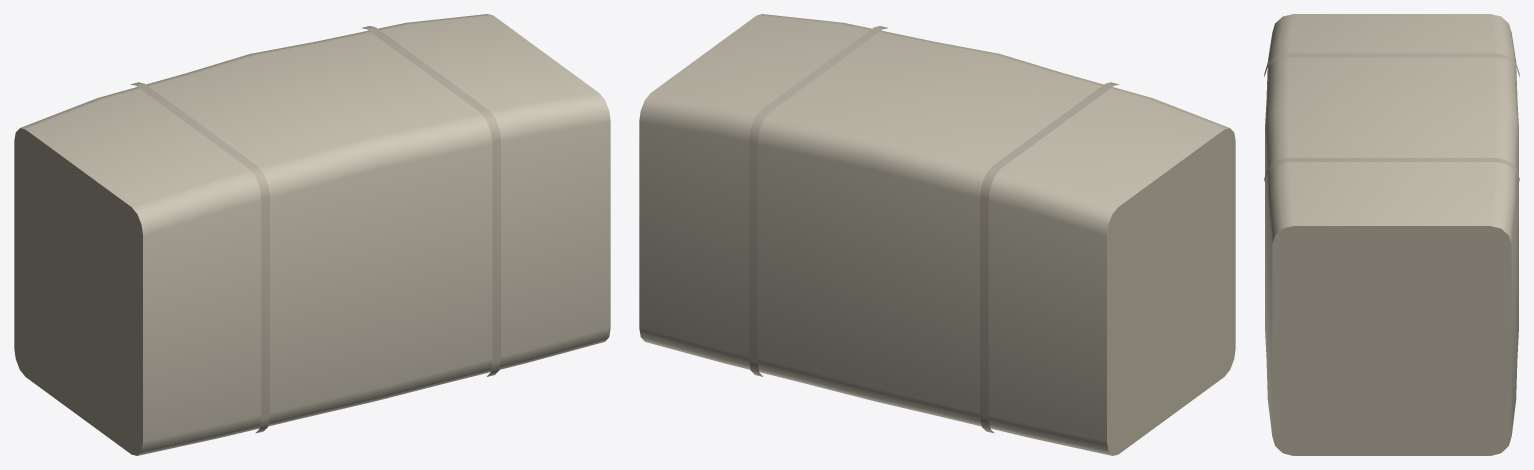
File: hay_bale_big.glb
3 views of the same model, side by side, from view 1: azimuth 30°, elevation 25°; view 2: azimuth 150°, elevation 25°; view 3: azimuth 270°, elevation 25° (orthographic). The views are drawn at different scales.
Parts seen in each view (by area): view 1: hay_bale_big; view 2: hay_bale_big; view 3: hay_bale_big.
Boxes of the visible parts, x1,y1,x2,y2 form: hay_bale_big: (14, 14, 610, 455); hay_bale_big: (639, 14, 1235, 455); hay_bale_big: (1264, 14, 1519, 455).
Size of the model in its own units: 1.7 by 0.9203 by 0.8646.
